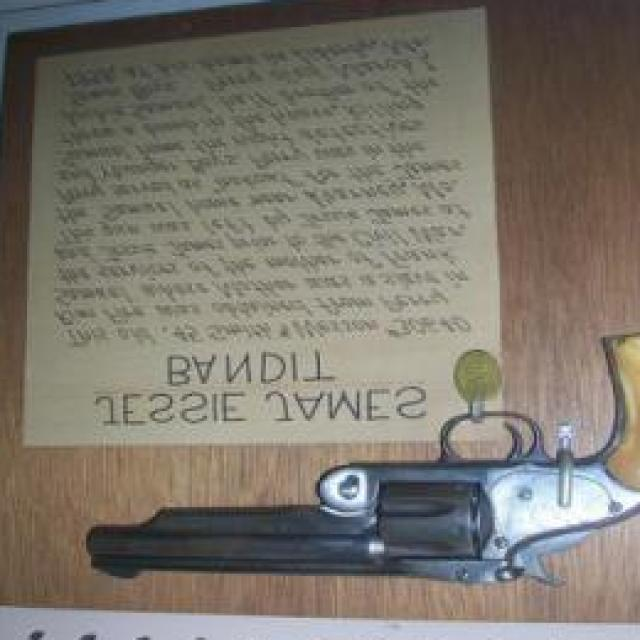pistol: (86, 325, 640, 583)
